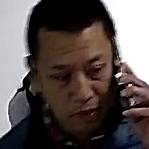qg: (19, 20, 133, 134)
